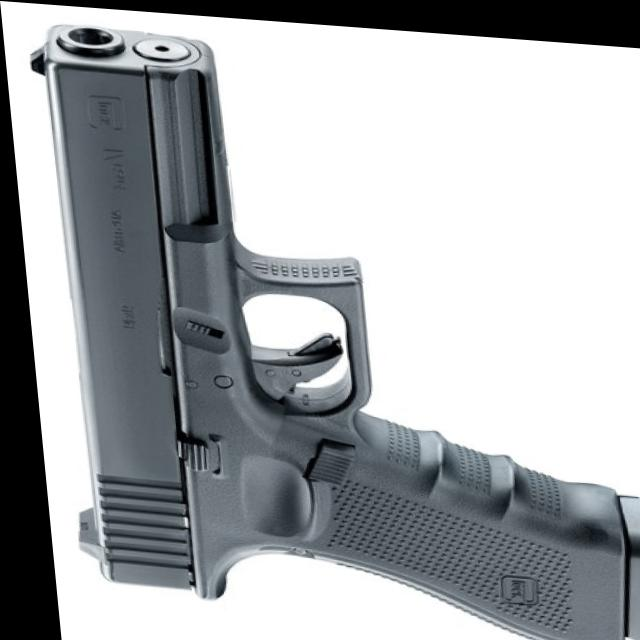handgun: (27, 23, 640, 640)
